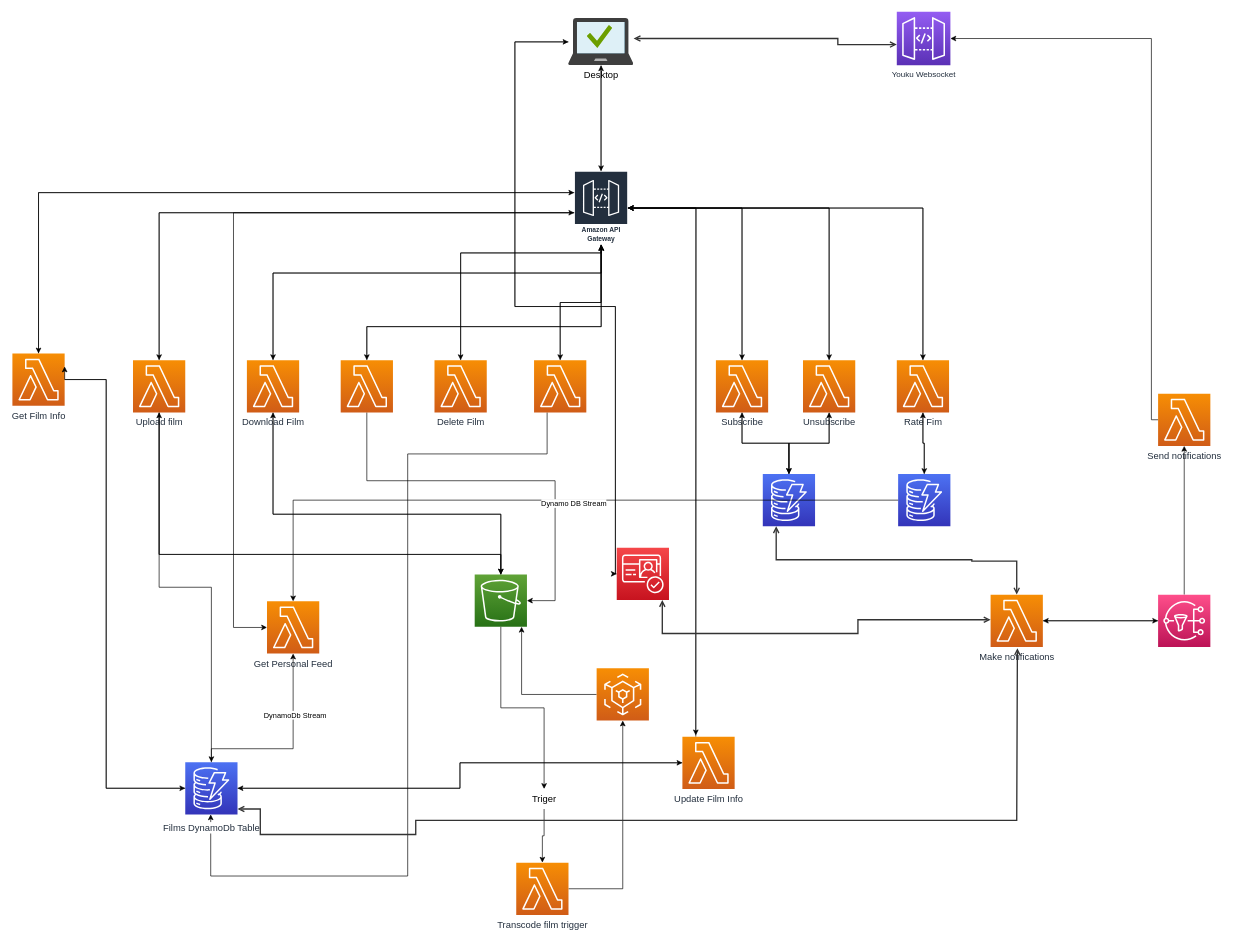
Some shapes in this 1233 by 943 pixel diagram are drawn without their labels. The box of each missing label's shape, as (x1, y1, x2, y2) in pixels:
Amazon Cognito: (616, 547, 669, 600)
Elemental MediaConverter: (596, 668, 649, 721)
Ratings DyanmoDB Table: (897, 473, 950, 526)
S3 Bucket: (474, 574, 527, 627)
Search Film: (533, 359, 586, 412)
SNS: (1157, 594, 1210, 647)
Subscriptions DynamoDB Table: (762, 473, 815, 526)
Update Film: (340, 359, 393, 412)
